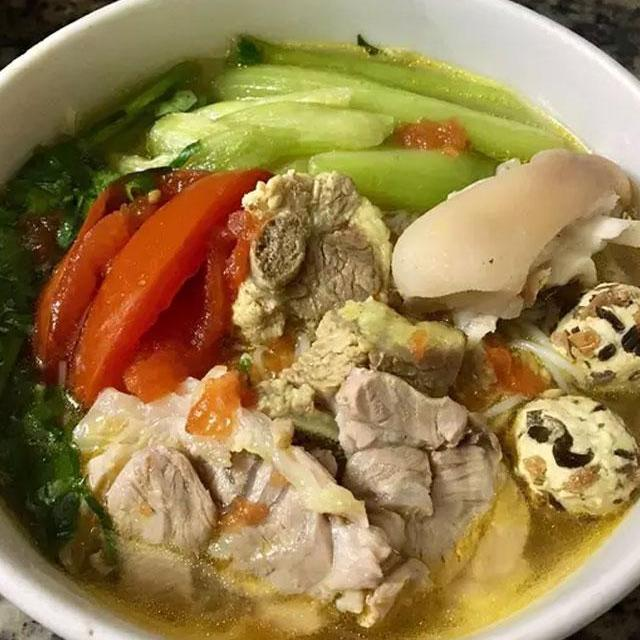thit heo: (41, 355, 442, 640), (323, 356, 538, 624), (223, 160, 401, 442), (242, 289, 480, 482), (97, 438, 224, 624)
vien moc: (504, 381, 640, 534), (540, 278, 640, 403)
